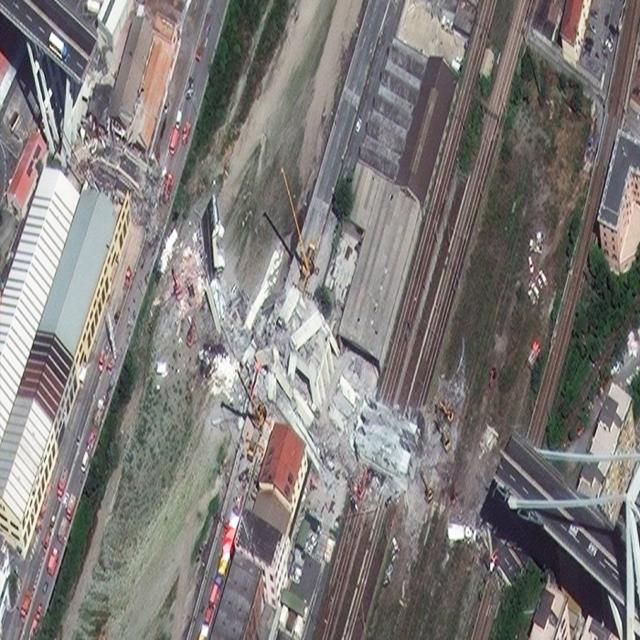collapsed_building: (62, 207, 526, 523)
